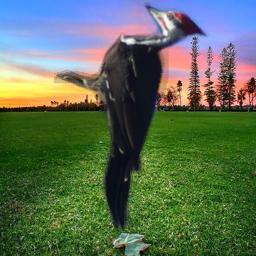Woodpecker: (54, 2, 210, 233)
